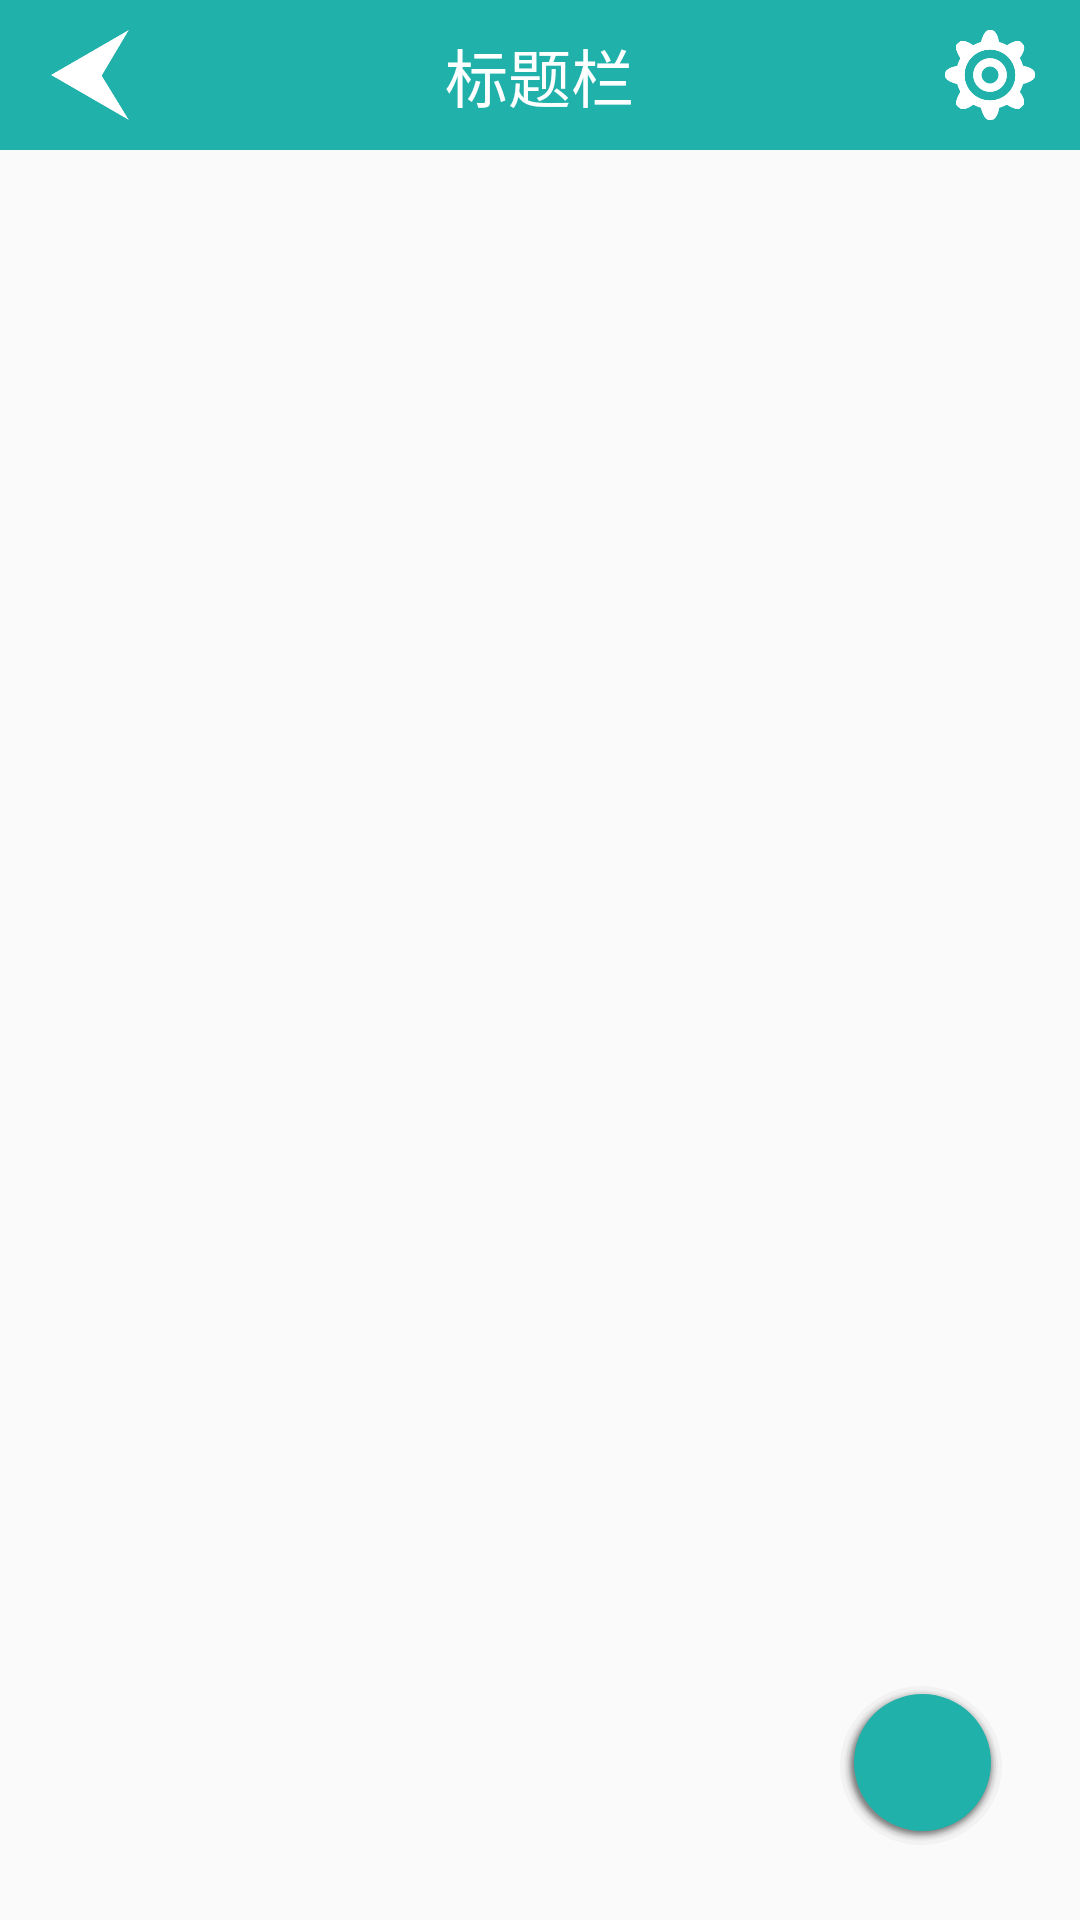

Where icons sit on this 1080px x 1920px app screen, as (x1, y1, x2, y2):
back arrow: (51, 30, 129, 120)
manage: (945, 30, 1035, 120)
